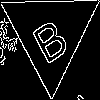B: (25, 9, 72, 66)
